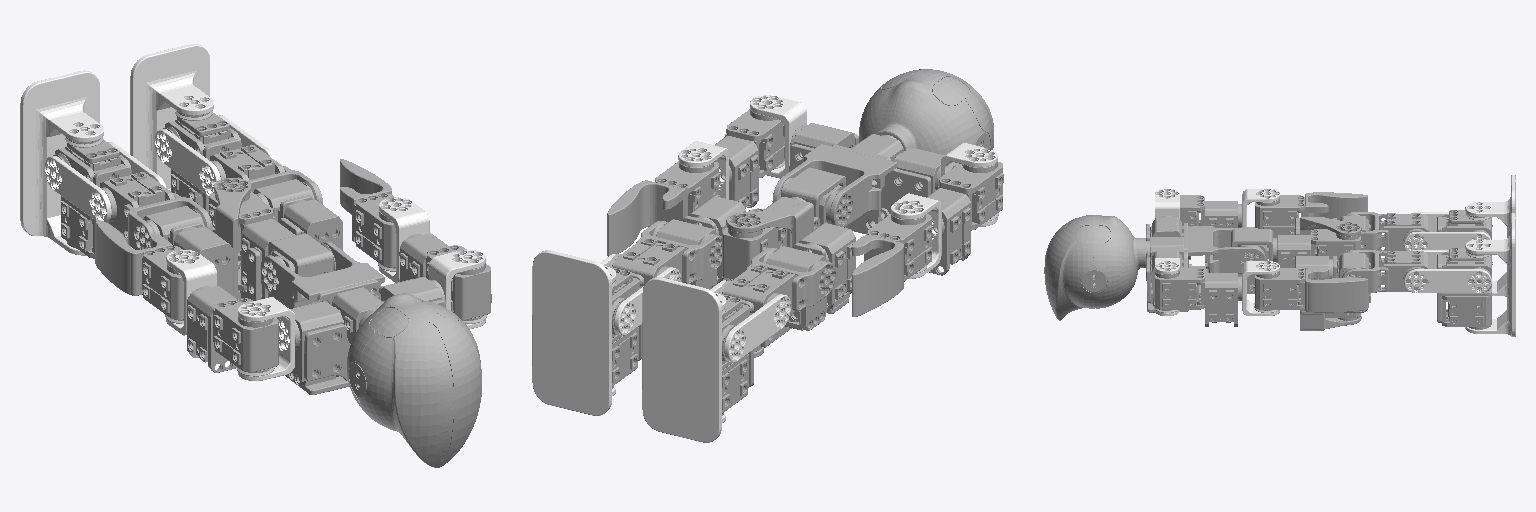
--- Facts derived from the render (not from the file) ---
Views: 3 orthographic renders of the robot side by side, from view 1: azimuth 30°, elevation 25°; view 2: azimuth 150°, elevation 25°; view 3: azimuth 270°, elevation 25°.
Robot: Heol_humanoid — 24 links, 23 joints (23 revolute); root link pelvis; default pose: every joint at zero.
Visible links, largest first — view 1: head, chest, l_foot, r_foot, l_shoulder_motor, l_forearm, r_forearm, l_hip, l_thigh, r_shoulder_motor, l_ankle, pelvis (+12 smaller); view 2: l_foot, r_foot, chest, head, l_forearm, r_forearm, l_shoulder_motor, l_hip, r_shoulder_motor, l_thigh, r_thigh, pelvis (+12 smaller); view 3: head, chest, r_forearm, r_shoulder_motor, l_forearm, r_ankle, pelvis, r_thigh, l_thigh, r_foot, r_knee, l_shoulder_motor (+10 smaller).
Boxes of the visible links, box(x1,y1,x2,y2) form: head: box(347, 293, 481, 467); chest: box(260, 241, 445, 394); l_foot: box(20, 70, 103, 255); r_foot: box(130, 44, 213, 190); l_shoulder_motor: box(187, 286, 278, 376); l_forearm: box(95, 219, 183, 323); r_forearm: box(340, 159, 395, 271); l_hip: box(173, 178, 250, 298); l_thigh: box(100, 172, 212, 249); r_shoulder_motor: box(399, 233, 491, 323); l_ankle: box(53, 137, 131, 258); pelvis: box(209, 193, 295, 300); l_foot: box(642, 277, 725, 442); r_foot: box(532, 250, 615, 415); chest: box(772, 123, 944, 233); head: box(859, 69, 993, 154); l_forearm: box(852, 214, 931, 316); r_forearm: box(607, 161, 719, 256); l_shoulder_motor: box(926, 161, 1003, 275); l_hip: box(726, 202, 855, 313); r_shoulder_motor: box(715, 109, 784, 208); l_thigh: box(719, 248, 835, 314); r_thigh: box(609, 221, 721, 284); pelvis: box(722, 197, 819, 351); head: box(1044, 215, 1145, 320); chest: box(1146, 216, 1265, 312); r_forearm: box(1254, 268, 1367, 312); r_shoulder_motor: box(1154, 268, 1241, 326); l_forearm: box(1255, 192, 1367, 237); r_ankle: box(1437, 248, 1492, 329); pelvis: box(1273, 229, 1360, 320); r_thigh: box(1342, 250, 1428, 292); l_thigh: box(1345, 212, 1428, 251); r_foot: box(1465, 213, 1515, 336); r_knee: box(1404, 250, 1491, 292); l_shoulder_motor: box(1180, 195, 1241, 227).
Size in the robot's own frame: 0.1546 by 0.3381 by 0.0936 metres.
24 mesh visuals loaded from 24 distinct referenced files (24 binary STL).

URDF robot description (Heol_humanoid):
<robot
  name="Heol_humanoid">
  <link
    name="pelvis">
    <inertial>
      <origin
        xyz="0.0410669745819321 0.0421828125034158 0.0379110717402652"
        rpy="0 0 0" />
      <mass
        value="0.0572942260553945" />
      <inertia
        ixx="3.65121025707978E-05"
        ixy="4.85882286230639E-07"
        ixz="-2.99007836945976E-07"
        iyy="2.000430429396E-05"
        iyz="3.35587468839815E-06"
        izz="2.12489482613664E-05" />
    </inertial>
    <visual>
      <origin
        xyz="0 0 0"
        rpy="0 0 0" />
      <geometry>
        <mesh
          filename="package://meshes/pelvis.STL" />
      </geometry>
      <material
        name="">
        <color
          rgba="0.752941176470588 0.752941176470588 0.752941176470588 1" />
      </material>
    </visual>
    <collision>
      <origin
        xyz="0 0 0"
        rpy="0 0 0" />
      <geometry>
        <mesh
          filename="package://meshes/pelvis.STL" />
      </geometry>
    </collision>
  </link>
  <link
    name="l_hip">
    <inertial>
      <origin
        xyz="-0.0270835640140283 0.0231158477663268 0.0237291455019634"
        rpy="0 0 0" />
      <mass
        value="0.0238887563110607" />
      <inertia
        ixx="5.49518226158328E-06"
        ixy="6.82907038074933E-07"
        ixz="-1.00493628454709E-06"
        iyy="4.44318183140713E-06"
        iyz="-4.3109955469561E-07"
        izz="6.27728430763791E-06" />
    </inertial>
    <visual>
      <origin
        xyz="0 0 0"
        rpy="0 0 0" />
      <geometry>
        <mesh
          filename="package://meshes/l_hip.STL" />
      </geometry>
      <material
        name="">
        <color
          rgba="0.752941176470588 0.752941176470588 0.752941176470588 1" />
      </material>
    </visual>
    <collision>
      <origin
        xyz="0 0 0"
        rpy="0 0 0" />
      <geometry>
        <mesh
          filename="package://meshes/l_hip.STL" />
      </geometry>
    </collision>
  </link>
  <joint
    name="l_hip_y"
    type="revolute">
    <origin
      xyz="0.041652 -0.0188 0.026743"
      rpy="1.5708 0 0" />
    <parent
      link="pelvis" />
    <child
      link="l_hip" />
    <axis
      xyz="0 -1 0" />
    <limit
      lower="-2.6"
      upper="2.6"
      effort="0"
      velocity="0" />
  </joint>
  <link
    name="l_hip_motor">
    <inertial>
      <origin
        xyz="-6.01409748791082E-05 -0.00776762181170505 -0.00281391609679076"
        rpy="0 0 0" />
      <mass
        value="0.0191896773969032" />
      <inertia
        ixx="2.72857317938081E-06"
        ixy="-1.41373715165933E-08"
        ixz="1.36917622383191E-09"
        iyy="1.92531751945142E-06"
        iyz="-8.27044796155283E-08"
        izz="2.84890029696111E-06" />
    </inertial>
    <visual>
      <origin
        xyz="0 0 0"
        rpy="0 0 0" />
      <geometry>
        <mesh
          filename="package://meshes/l_hip_motor.STL" />
      </geometry>
      <material
        name="">
        <color
          rgba="0.752941176470588 0.752941176470588 0.752941176470588 1" />
      </material>
    </visual>
    <collision>
      <origin
        xyz="0 0 0"
        rpy="0 0 0" />
      <geometry>
        <mesh
          filename="package://meshes/l_hip_motor.STL" />
      </geometry>
    </collision>
  </link>
  <joint
    name="l_hip_motor_z"
    type="revolute">
    <origin
      xyz="-0.032 0.03 0"
      rpy="0 0 0" />
    <parent
      link="l_hip" />
    <child
      link="l_hip_motor" />
    <axis
      xyz="0 0 -1" />
    <limit
      lower="-2.6"
      upper="2.6"
      effort="0"
      velocity="0" />
  </joint>
  <link
    name="l_thigh">
    <inertial>
      <origin
        xyz="-1.10293058644406E-08 -0.0335554626566368 -5.61829485263877E-05"
        rpy="0 0 0" />
      <mass
        value="0.0205479105964943" />
      <inertia
        ixx="5.3913560500342E-06"
        ixy="-3.27768647326821E-12"
        ixz="-1.94132341304228E-11"
        iyy="2.40527757418774E-06"
        iyz="1.83746316311177E-08"
        izz="4.40730797669897E-06" />
    </inertial>
    <visual>
      <origin
        xyz="0 0 0"
        rpy="0 0 0" />
      <geometry>
        <mesh
          filename="package://meshes/l_thigh.STL" />
      </geometry>
      <material
        name="">
        <color
          rgba="0.752941176470588 0.752941176470588 0.752941176470588 1" />
      </material>
    </visual>
    <collision>
      <origin
        xyz="0 0 0"
        rpy="0 0 0" />
      <geometry>
        <mesh
          filename="package://meshes/l_thigh.STL" />
      </geometry>
    </collision>
  </link>
  <joint
    name="l_thigh_x"
    type="revolute">
    <origin
      xyz="0 0 -0.004"
      rpy="1.5708 0 1.5708" />
    <parent
      link="l_hip_motor" />
    <child
      link="l_thigh" />
    <axis
      xyz="0 0 -1" />
    <limit
      lower="-2.6"
      upper="2.6"
      effort="0"
      velocity="0" />
  </joint>
  <link
    name="l_knee">
    <inertial>
      <origin
        xyz="-1.07050902864447E-10 0.0225000000000239 6.78970768497322E-15"
        rpy="0 0 0" />
      <mass
        value="0.00513087567995406" />
      <inertia
        ixx="2.59601739840765E-06"
        ixy="2.7189963744047E-19"
        ixz="-2.2454238776038E-19"
        iyy="1.53262832182676E-06"
        iyz="-1.85645753405888E-21"
        izz="1.34541992010939E-06" />
    </inertial>
    <visual>
      <origin
        xyz="0 0 0"
        rpy="0 0 0" />
      <geometry>
        <mesh
          filename="package://meshes/l_knee.STL" />
      </geometry>
      <material
        name="">
        <color
          rgba="1 1 1 1" />
      </material>
    </visual>
    <collision>
      <origin
        xyz="0 0 0"
        rpy="0 0 0" />
      <geometry>
        <mesh
          filename="package://meshes/l_knee.STL" />
      </geometry>
    </collision>
  </link>
  <joint
    name="l_knee_x"
    type="revolute">
    <origin
      xyz="0 -0.045 0"
      rpy="-3.1416 0 0" />
    <parent
      link="l_thigh" />
    <child
      link="l_knee" />
    <axis
      xyz="0 0 1" />
    <limit
      lower="-2.6"
      upper="2.6"
      effort="0"
      velocity="0" />
  </joint>
  <link
    name="l_ankle">
    <inertial>
      <origin
        xyz="-0.0442601678709415 -0.0664285222637494 -0.00976191413290354"
        rpy="0 0 0" />
      <mass
        value="0.040154468761188" />
      <inertia
        ixx="6.22341129865556E-06"
        ixy="1.13806252097566E-07"
        ixz="-3.62955227750007E-08"
        iyy="1.1354072686787E-05"
        iyz="2.17409044982703E-08"
        izz="1.39792054648314E-05" />
    </inertial>
    <visual>
      <origin
        xyz="0 0 0"
        rpy="0 0 0" />
      <geometry>
        <mesh
          filename="package://meshes/l_ankle.STL" />
      </geometry>
      <material
        name="">
        <color
          rgba="0.752941176470588 0.752941176470588 0.752941176470588 1" />
      </material>
    </visual>
    <collision>
      <origin
        xyz="0 0 0"
        rpy="0 0 0" />
      <geometry>
        <mesh
          filename="package://meshes/l_ankle.STL" />
      </geometry>
    </collision>
  </link>
  <joint
    name="l_ankle_x"
    type="revolute">
    <origin
      xyz="-0.056743 -0.0302 0.0096519"
      rpy="3.4694E-16 0 3.1416" />
    <parent
      link="l_knee" />
    <child
      link="l_ankle" />
    <axis
      xyz="0 0 1" />
    <limit
      lower="-2.6"
      upper="2.6"
      effort="0"
      velocity="0" />
  </joint>
  <link
    name="l_foot">
    <inertial>
      <origin
        xyz="0.0385766601101179 0.0209235049680227 3.3316795277601E-05"
        rpy="0 0 0" />
      <mass
        value="0.0202605378538181" />
      <inertia
        ixx="3.14268429568421E-06"
        ixy="3.92584853218249E-07"
        ixz="-3.79765019585808E-09"
        iyy="1.48123918460857E-05"
        iyz="4.33508550119327E-10"
        izz="1.35313300236987E-05" />
    </inertial>
    <visual>
      <origin
        xyz="0 0 0"
        rpy="0 0 0" />
      <geometry>
        <mesh
          filename="package://meshes/l_foot.STL" />
      </geometry>
      <material
        name="">
        <color
          rgba="1 1 1 1" />
      </material>
    </visual>
    <collision>
      <origin
        xyz="0 0 0"
        rpy="0 0 0" />
      <geometry>
        <mesh
          filename="package://meshes/l_foot.STL" />
      </geometry>
    </collision>
  </link>
  <joint
    name="l_foot_y"
    type="revolute">
    <origin
      xyz="-0.011743 -0.0752 -0.0098519"
      rpy="2.949E-15 0 3.1416" />
    <parent
      link="l_ankle" />
    <child
      link="l_foot" />
    <axis
      xyz="-1 0 0" />
    <limit
      lower="-2.6"
      upper="2.6"
      effort="0"
      velocity="0" />
  </joint>
  <link
    name="r_hip">
    <inertial>
      <origin
        xyz="0.0267918410324552 0.0384453640375394 0.0237344523826482"
        rpy="0 0 0" />
      <mass
        value="0.0247517363559943" />
      <inertia
        ixx="7.94295695056937E-06"
        ixy="2.1425049431127E-06"
        ixz="1.03734145559542E-06"
        iyy="4.5972428305968E-06"
        iyz="8.17998732601025E-07"
        izz="8.74766806042519E-06" />
    </inertial>
    <visual>
      <origin
        xyz="0 0 0"
        rpy="0 0 0" />
      <geometry>
        <mesh
          filename="package://meshes/r_hip.STL" />
      </geometry>
      <material
        name="">
        <color
          rgba="0.752941176470588 0.752941176470588 0.752941176470588 1" />
      </material>
    </visual>
    <collision>
      <origin
        xyz="0 0 0"
        rpy="0 0 0" />
      <geometry>
        <mesh
          filename="package://meshes/r_hip.STL" />
      </geometry>
    </collision>
  </link>
  <joint
    name="r_hipy"
    type="revolute">
    <origin
      xyz="0.041652 -0.0188 0.0037433"
      rpy="1.5708 0 0" />
    <parent
      link="pelvis" />
    <child
      link="r_hip" />
    <axis
      xyz="0 -1 0" />
    <limit
      lower="-2.6"
      upper="2.6"
      effort="0"
      velocity="0" />
  </joint>
  <link
    name="r_hip_motor">
    <inertial>
      <origin
        xyz="-6.01409748823695E-05 -0.00776762181170464 -0.002813916096787"
        rpy="0 0 0" />
      <mass
        value="0.0191896773969032" />
      <inertia
        ixx="2.72857317938081E-06"
        ixy="-1.4137371516594E-08"
        ixz="1.36917622383132E-09"
        iyy="1.92531751945142E-06"
        iyz="-8.27044796155275E-08"
        izz="2.84890029696111E-06" />
    </inertial>
    <visual>
      <origin
        xyz="0 0 0"
        rpy="0 0 0" />
      <geometry>
        <mesh
          filename="package://meshes/r_hip_motor.STL" />
      </geometry>
      <material
        name="">
        <color
          rgba="0.752941176470588 0.752941176470588 0.752941176470588 1" />
      </material>
    </visual>
    <collision>
      <origin
        xyz="0 0 0"
        rpy="0 0 0" />
      <geometry>
        <mesh
          filename="package://meshes/r_hip_motor.STL" />
      </geometry>
    </collision>
  </link>
  <joint
    name="r_hip_motor_z"
    type="revolute">
    <origin
      xyz="0.032 0.053 0"
      rpy="0 0 0" />
    <parent
      link="r_hip" />
    <child
      link="r_hip_motor" />
    <axis
      xyz="0 0 -1" />
    <limit
      lower="-2.6"
      upper="2.6"
      effort="0"
      velocity="0" />
  </joint>
  <link
    name="r_thigh">
    <inertial>
      <origin
        xyz="-8.92758074411137E-09 -0.0335554544923856 -5.6177624304668E-05"
        rpy="0 0 0" />
      <mass
        value="0.0205479194607194" />
      <inertia
        ixx="5.39136068968387E-06"
        ixy="-2.47620919930406E-12"
        ixz="-1.88429697740208E-11"
        iyy="2.40527919108636E-06"
        iyz="1.8376653842978E-08"
        izz="4.40731135554231E-06" />
    </inertial>
    <visual>
      <origin
        xyz="0 0 0"
        rpy="0 0 0" />
      <geometry>
        <mesh
          filename="package://meshes/r_thigh.STL" />
      </geometry>
      <material
        name="">
        <color
          rgba="0.752941176470588 0.752941176470588 0.752941176470588 1" />
      </material>
    </visual>
    <collision>
      <origin
        xyz="0 0 0"
        rpy="0 0 0" />
      <geometry>
        <mesh
          filename="package://meshes/r_thigh.STL" />
      </geometry>
    </collision>
  </link>
  <joint
    name="r_thigh_x"
    type="revolute">
    <origin
      xyz="0 0 -0.004"
      rpy="1.5708 0 1.5708" />
    <parent
      link="r_hip_motor" />
    <child
      link="r_thigh" />
    <axis
      xyz="0 0 -1" />
    <limit
      lower="-2.6"
      upper="2.6"
      effort="0"
      velocity="0" />
  </joint>
  <link
    name="r_knee">
    <inertial>
      <origin
        xyz="-1.07041472907632E-10 -0.0215 -4.30211422042248E-16"
        rpy="0 0 0" />
      <mass
        value="0.00513087567995405" />
      <inertia
        ixx="2.59601739840765E-06"
        ixy="-1.79603285176735E-19"
        ixz="3.78025557364667E-22"
        iyy="1.53262832182676E-06"
        iyz="-1.19633900582379E-21"
        izz="1.34541992010939E-06" />
    </inertial>
    <visual>
      <origin
        xyz="0 0 0"
        rpy="0 0 0" />
      <geometry>
        <mesh
          filename="package://meshes/r_knee.STL" />
      </geometry>
      <material
        name="">
        <color
          rgba="1 1 1 1" />
      </material>
    </visual>
    <collision>
      <origin
        xyz="0 0 0"
        rpy="0 0 0" />
      <geometry>
        <mesh
          filename="package://meshes/r_knee.STL" />
      </geometry>
    </collision>
  </link>
  <joint
    name="r_knee_x"
    type="revolute">
    <origin
      xyz="0 -0.046 0"
      rpy="1.3878E-15 1.3878E-15 1.3482E-29" />
    <parent
      link="r_thigh" />
    <child
      link="r_knee" />
    <axis
      xyz="0 0 -1" />
    <limit
      lower="-2.6"
      upper="2.6"
      effort="0"
      velocity="0" />
  </joint>
  <link
    name="r_ankle">
    <inertial>
      <origin
        xyz="0.0124831744421377 0.00877126170544443 -0.000110062280338552"
        rpy="0 0 0" />
      <mass
        value="0.0401544687611881" />
      <inertia
        ixx="6.22341129865557E-06"
        ixy="1.13806252097998E-07"
        ixz="-3.62955227736143E-08"
        iyy="1.1354072686787E-05"
        iyz="2.17409044982821E-08"
        izz="1.39792054648314E-05" />
    </inertial>
    <visual>
      <origin
        xyz="0 0 0"
        rpy="0 0 0" />
      <geometry>
        <mesh
          filename="package://meshes/r_ankle.STL" />
      </geometry>
      <material
        name="">
        <color
          rgba="0.752941176470588 0.752941176470588 0.752941176470588 1" />
      </material>
    </visual>
    <collision>
      <origin
        xyz="0 0 0"
        rpy="0 0 0" />
      <geometry>
        <mesh
          filename="package://meshes/r_ankle.STL" />
      </geometry>
    </collision>
  </link>
  <joint
    name="r_ankle_x"
    type="revolute">
    <origin
      xyz="0 -0.044 0"
      rpy="-3.1416 1.3878E-15 3.1416" />
    <parent
      link="r_knee" />
    <child
      link="r_ankle" />
    <axis
      xyz="0 0 1" />
    <limit
      lower="-2.6"
      upper="2.6"
      effort="0"
      velocity="0" />
  </joint>
  <link
    name="r_foot">
    <inertial>
      <origin
        xyz="-0.0064233398899067 0.0209235049680567 -0.000166683204729512"
        rpy="0 0 0" />
      <mass
        value="0.0202605378538181" />
      <inertia
        ixx="3.14268429568432E-06"
        ixy="3.92584853219291E-07"
        ixz="-3.79765019772836E-09"
        iyy="1.48123918460857E-05"
        iyz="4.33508550049995E-10"
        izz="1.35313300236987E-05" />
    </inertial>
    <visual>
      <origin
        xyz="0 0 0"
        rpy="0 0 0" />
      <geometry>
        <mesh
          filename="package://meshes/r_foot.STL" />
      </geometry>
      <material
        name="">
        <color
          rgba="1 1 1 1" />
      </material>
    </visual>
    <collision>
      <origin
        xyz="0 0 0"
        rpy="0 0 0" />
      <geometry>
        <mesh
          filename="package://meshes/r_foot.STL" />
      </geometry>
    </collision>
  </link>
  <joint
    name="r_foot_y"
    type="revolute">
    <origin
      xyz="0 0 0"
      rpy="1.3878E-15 8.3267E-15 3.1416" />
    <parent
      link="r_ankle" />
    <child
      link="r_foot" />
    <axis
      xyz="-1 0 0" />
    <limit
      lower="-2.6"
      upper="2.6"
      effort="0"
      velocity="0" />
  </joint>
  <link
    name="spine">
    <inertial>
      <origin
        xyz="-4.65615183525142E-05 0.0147514539929461 0.00718045861279515"
        rpy="0 0 0" />
      <mass
        value="0.0236192598262425" />
      <inertia
        ixx="4.6219502193066E-06"
        ixy="-2.73150212279027E-10"
        ixz="1.46262150824344E-08"
        iyy="4.35953212647662E-06"
        iyz="-3.88438024562158E-08"
        izz="2.68864078262981E-06" />
    </inertial>
    <visual>
      <origin
        xyz="0 0 0"
        rpy="0 0 0" />
      <geometry>
        <mesh
          filename="package://meshes/spine.STL" />
      </geometry>
      <material
        name="">
        <color
          rgba="0.752941176470588 0.752941176470588 0.752941176470588 1" />
      </material>
    </visual>
    <collision>
      <origin
        xyz="0 0 0"
        rpy="0 0 0" />
      <geometry>
        <mesh
          filename="package://meshes/spine.STL" />
      </geometry>
    </collision>
  </link>
  <joint
    name="spine_z"
    type="revolute">
    <origin
      xyz="0.041652 -0.0728 0.058743"
      rpy="3.1416 -0.0024405 1.4944E-19" />
    <parent
      link="pelvis" />
    <child
      link="spine" />
    <axis
      xyz="0 -1 0" />
    <limit
      lower="-2.6"
      upper="2.6"
      effort="0"
      velocity="0" />
  </joint>
  <link
    name="chest">
    <inertial>
      <origin
        xyz="0.000183348580937451 -0.00916720574845425 0.0555164070303117"
        rpy="0 0 0" />
      <mass
        value="0.0820076699949507" />
      <inertia
        ixx="2.88159067118394E-05"
        ixy="2.53748284530203E-08"
        ixz="-6.88081947417912E-09"
        iyy="6.22840837400982E-05"
        iyz="-2.32465297125178E-06"
        izz="5.37296720984047E-05" />
    </inertial>
    <visual>
      <origin
        xyz="0 0 0"
        rpy="0 0 0" />
      <geometry>
        <mesh
          filename="package://meshes/chest.STL" />
      </geometry>
      <material
        name="">
        <color
          rgba="0.752941176470588 0.752941176470588 0.752941176470588 1" />
      </material>
    </visual>
    <collision>
      <origin
        xyz="0 0 0"
        rpy="0 0 0" />
      <geometry>
        <mesh
          filename="package://meshes/chest.STL" />
      </geometry>
    </collision>
  </link>
  <joint
    name="chest_x"
    type="revolute">
    <origin
      xyz="0 0.015 0"
      rpy="-1.5449 -8.1098E-17 -2.0871E-18" />
    <parent
      link="spine" />
    <child
      link="chest" />
    <axis
      xyz="-1 0 0" />
    <limit
      lower="-2.6"
      upper="2.6"
      effort="0"
      velocity="0" />
  </joint>
  <link
    name="l_shoulder">
    <inertial>
      <origin
        xyz="0.00747429700267365 2.07618200409598E-10 -1.20106216638938E-11"
        rpy="0 0 0" />
      <mass
        value="0.0033436832656123" />
      <inertia
        ixx="7.5528412026402E-07"
        ixy="2.87386851917981E-15"
        ixz="-2.85239094620316E-16"
        iyy="8.36222428966545E-07"
        iyz="-1.67477794487946E-16"
        izz="2.71213451164774E-07" />
    </inertial>
    <visual>
      <origin
        xyz="0 0 0"
        rpy="0 0 0" />
      <geometry>
        <mesh
          filename="package://meshes/l_shoulder.STL" />
      </geometry>
      <material
        name="">
        <color
          rgba="1 1 1 1" />
      </material>
    </visual>
    <collision>
      <origin
        xyz="0 0 0"
        rpy="0 0 0" />
      <geometry>
        <mesh
          filename="package://meshes/l_shoulder.STL" />
      </geometry>
    </collision>
  </link>
  <joint
    name="l_shoulder_x"
    type="revolute">
    <origin
      xyz="-0.043511 -0.00015034 0.061"
      rpy="1.5967 1.7916E-17 3.1416" />
    <parent
      link="chest" />
    <child
      link="l_shoulder" />
    <axis
      xyz="1 0 0" />
    <limit
      lower="-2.6"
      upper="2.6"
      effort="0"
      velocity="0" />
  </joint>
  <link
    name="l_shoulder_motor">
    <inertial>
      <origin
        xyz="-1.43009809550065E-09 -0.0228587980714255 -0.00326185201937972"
        rpy="0 0 0" />
      <mass
        value="0.0337180938758863" />
      <inertia
        ixx="1.38412287733882E-05"
        ixy="-6.40563008776547E-14"
        ixz="-5.51999028364473E-13"
        iyy="3.9227903886426E-06"
        iyz="1.82027608343754E-06"
        izz="1.23611994526237E-05" />
    </inertial>
    <visual>
      <origin
        xyz="0 0 0"
        rpy="0 0 0" />
      <geometry>
        <mesh
          filename="package://meshes/l_shoulder_motor.STL" />
      </geometry>
      <material
        name="">
        <color
          rgba="0.752941176470588 0.752941176470588 0.752941176470588 1" />
      </material>
    </visual>
    <collision>
      <origin
        xyz="0 0 0"
        rpy="0 0 0" />
      <geometry>
        <mesh
          filename="package://meshes/l_shoulder_motor.STL" />
      </geometry>
    </collision>
  </link>
  <joint
    name="l_shoulder_motor_y"
    type="revolute">
    <origin
      xyz="0.018089 0 0"
      rpy="0 0 0" />
    <parent
      link="l_shoulder" />
    <child
      link="l_shoulder_motor" />
    <axis
      xyz="0 0 -1" />
    <limit
      lower="-2.6"
      upper="2.6"
      effort="0"
      velocity="0" />
  </joint>
  <link
    name="l_upper_arm">
    <inertial>
      <origin
        xyz="0.00738572094736649 -2.07924927275727E-10 1.10631503957848E-11"
        rpy="0 0 0" />
      <mass
        value="0.00334368326578746" />
      <inertia
        ixx="7.55284120272145E-07"
        ixy="-2.87671849201633E-15"
        ixz="3.8678375267221E-16"
        iyy="8.36222428969736E-07"
        iyz="-2.53581723059435E-16"
        izz="2.7121345117354E-07" />
    </inertial>
    <visual>
      <origin
        xyz="0 0 0"
        rpy="0 0 0" />
      <geometry>
        <mesh
          filename="package://meshes/l_upper_arm.STL" />
      </geometry>
      <material
        name="">
        <color
          rgba="1 1 1 1" />
      </material>
    </visual>
    <collision>
      <origin
        xyz="0 0 0"
        rpy="0 0 0" />
      <geometry>
        <mesh
          filename="package://meshes/l_upper_arm.STL" />
      </geometry>
    </collision>
  </link>
  <joint
    name="l_upper_arm_z"
    type="revolute">
    <origin
      xyz="0 -0.054 0"
      rpy="-3.1392 0 -1.5708" />
    <parent
      link="l_shoulder_motor" />
    <child
      link="l_upper_arm" />
    <axis
      xyz="1 0 0" />
    <limit
      lower="-2.6"
      upper="2.6"
      effort="0"
      velocity="0" />
  </joint>
  <link
    name="l_forearm">
    <inertial>
      <origin
        xyz="0.00276318257492493 -0.0198338270203623 0.000214866068286079"
        rpy="0 0 0" />
      <mass
        value="0.0257657351354794" />
      <inertia
        ixx="1.28753735465766E-05"
        ixy="-2.09824525987835E-06"
        ixz="-4.15371891487352E-08"
        iyy="2.70910011838058E-06"
        iyz="-4.05301232336156E-08"
        izz="1.28181627224906E-05" />
    </inertial>
    <visual>
      <origin
        xyz="0 0 0"
        rpy="0 0 0" />
      <geometry>
        <mesh
          filename="package://meshes/l_forearm.STL" />
      </geometry>
      <material
        name="">
        <color
          rgba="0.752941176470588 0.752941176470588 0.752941176470588 1" />
      </material>
    </visual>
    <collision>
      <origin
        xyz="0 0 0"
        rpy="0 0 0" />
      <geometry>
        <mesh
          filename="package://meshes/l_forearm.STL" />
      </geometry>
    </collision>
  </link>
  <joint
    name="l_forearm_y"
    type="revolute">
    <origin
      xyz="0.018 0 0"
      rpy="3.1416 0 -1.5708" />
    <parent
      link="l_upper_arm" />
    <child
      link="l_forearm" />
    <axis
      xyz="0 0 -1" />
    <limit
      lower="-2.6"
      upper="2.6"
      effort="0"
      velocity="0" />
  </joint>
  <link
    name="r_shoulder">
    <inertial>
      <origin
        xyz="0.00747429708048673 2.07622058434609E-10 -1.3148135358243E-11"
        rpy="0 0 0" />
      <mass
        value="0.00334368326561428" />
      <inertia
        ixx="7.55284120264198E-07"
        ixy="2.87394539042304E-15"
        ixz="-2.89768892301985E-16"
        iyy="8.36222428966727E-07"
        iyz="-2.93904918504133E-16"
        izz="2.71213451164959E-07" />
    </inertial>
    <visual>
      <origin
        xyz="0 0 0"
        rpy="0 0 0" />
      <geometry>
        <mesh
          filename="package://meshes/r_shoulder.STL" />
      </geometry>
      <material
        name="">
        <color
          rgba="1 1 1 1" />
      </material>
    </visual>
    <collision>
      <origin
        xyz="0 0 0"
        rpy="0 0 0" />
      <geometry>
        <mesh
          filename="package://meshes/r_shoulder.STL" />
      </geometry>
    </collision>
  </link>
  <joint
    name="r_shoulder_x"
    type="revolute">
    <origin
      xyz="0.043911 -0.00015034 0.061"
      rpy="-1.5967 5.5447E-11 2.1434E-09" />
    <parent
      link="chest" />
    <child
      link="r_shoulder" />
    <axis
      xyz="-1 0 0" />
    <limit
      lower="-2.6"
      upper="2.6"
      effort="0"
      velocity="0" />
  </joint>
  <link
    name="r_shoulder_motor">
    <inertial>
      <origin
        xyz="-1.43254658135916E-09 -0.0228587980559559 -0.00326185202685698"
        rpy="0 0 0" />
      <mass
        value="0.03371809385647" />
      <inertia
        ixx="1.3841228759395E-05"
        ixy="-6.24406553282672E-14"
        ixz="-5.52211679949731E-13"
        iyy="3.92279038814914E-06"
        iyz="1.82027608763323E-06"
        izz="1.23611994388016E-05" />
    </inertial>
    <visual>
      <origin
        xyz="0 0 0"
        rpy="0 0 0" />
      <geometry>
        <mesh
          filename="package://meshes/r_shoulder_motor.STL" />
      </geometry>
      <material
        name="">
        <color
          rgba="0.752941176470588 0.752941176470588 0.752941176470588 1" />
      </material>
    </visual>
    <collision>
      <origin
        xyz="0 0 0"
        rpy="0 0 0" />
      <geometry>
        <mesh
          filename="package://meshes/r_shoulder_motor.STL" />
      </geometry>
    </collision>
  </link>
  <joint
    name="r_shoulder_motor_y"
    type="revolute">
    <origin
      xyz="0.018089 0 0"
      rpy="0 0 3.1416" />
    <parent
      link="r_shoulder" />
    <child
      link="r_shoulder_motor" />
    <axis
      xyz="0 0 -1" />
    <limit
      lower="-2.6"
      upper="2.6"
      effort="0"
      velocity="0" />
  </joint>
  <link
    name="r_upper_arm">
    <inertial>
      <origin
        xyz="0.00738572094663152 -2.07617020797635E-10 1.25633947689607E-11"
        rpy="0 0 0" />
      <mass
        value="0.00334368326578746" />
      <inertia
        ixx="7.55284120272143E-07"
        ixy="-2.8733443759537E-15"
        ixz="2.88457944900469E-16"
        iyy="8.36222428969735E-07"
        iyz="-2.87790509782189E-16"
        izz="2.71213451173539E-07" />
    </inertial>
    <visual>
      <origin
        xyz="0 0 0"
        rpy="0 0 0" />
      <geometry>
        <mesh
          filename="package://meshes/r_upper_arm.STL" />
      </geometry>
      <material
        name="">
        <color
          rgba="1 1 1 1" />
      </material>
    </visual>
    <collision>
      <origin
        xyz="0 0 0"
        rpy="0 0 0" />
      <geometry>
        <mesh
          filename="package://meshes/r_upper_arm.STL" />
      </geometry>
    </collision>
  </link>
  <joint
    name="r_upper_arm_z"
    type="revolute">
    <origin
      xyz="0 -0.054 0"
      rpy="-3.1392 0 -1.5708" />
    <parent
      link="r_shoulder_motor" />
    <child
      link="r_upper_arm" />
    <axis
      xyz="1 0 0" />
    <limit
      lower="-2.6"
      upper="2.6"
      effort="0"
      velocity="0" />
  </joint>
  <link
    name="r_forearm">
    <inertial>
      <origin
        xyz="-0.00276320533357348 -0.0198339003455293 0.000214694395096235"
        rpy="0 0 0" />
      <mass
        value="0.0257657889801188" />
      <inertia
        ixx="1.28754577391755E-05"
        ixy="2.09826471210378E-06"
        ixz="4.15636504905912E-08"
        iyy="2.7091088250933E-06"
        iyz="-4.03467502126813E-08"
        izz="1.28182439095505E-05" />
    </inertial>
    <visual>
      <origin
        xyz="0 0 0"
        rpy="0 0 0" />
      <geometry>
        <mesh
          filename="package://meshes/r_forearm.STL" />
      </geometry>
      <material
        name="">
        <color
          rgba="0.752941176470588 0.752941176470588 0.752941176470588 1" />
      </material>
    </visual>
    <collision>
      <origin
        xyz="0 0 0"
        rpy="0 0 0" />
      <geometry>
        <mesh
          filename="package://meshes/r_forearm.STL" />
      </geometry>
    </collision>
  </link>
  <joint
    name="r_forearm_y"
    type="revolute">
    <origin
      xyz="0.018 0 0"
      rpy="3.1416 0 -1.5708" />
    <parent
      link="r_upper_arm" />
    <child
      link="r_forearm" />
    <axis
      xyz="0 0 -1" />
    <limit
      lower="-2.6"
      upper="2.6"
      effort="0"
      velocity="0" />
  </joint>
  <link
    name="head">
    <inertial>
      <origin
        xyz="-2.75806401969086E-06 0.0382669007520599 0.00655498281252923"
        rpy="0 0 0" />
      <mass
        value="0.0234153106720677" />
      <inertia
        ixx="1.94365398894925E-05"
        ixy="-5.90366508087418E-10"
        ixz="9.06544728958002E-11"
        iyy="1.81703559426411E-05"
        iyz="1.67170896371806E-06"
        izz="1.80994307038823E-05" />
    </inertial>
    <visual>
      <origin
        xyz="0 0 0"
        rpy="0 0 0" />
      <geometry>
        <mesh
          filename="package://meshes/head.STL" />
      </geometry>
      <material
        name="">
        <color
          rgba="0.752941176470588 0.752941176470588 0.752941176470588 1" />
      </material>
    </visual>
    <collision>
      <origin
        xyz="0 0 0"
        rpy="0 0 0" />
      <geometry>
        <mesh
          filename="package://meshes/head.STL" />
      </geometry>
    </collision>
  </link>
  <joint
    name="head_z"
    type="revolute">
    <origin
      xyz="0.0002 -0.00015034 0.076045"
      rpy="1.5708 4.9504E-11 -0.0025045" />
    <parent
      link="chest" />
    <child
      link="head" />
    <axis
      xyz="0 -1 0" />
    <limit
      lower="-2.6"
      upper="2.6"
      effort="0"
      velocity="0" />
  </joint>
</robot>
